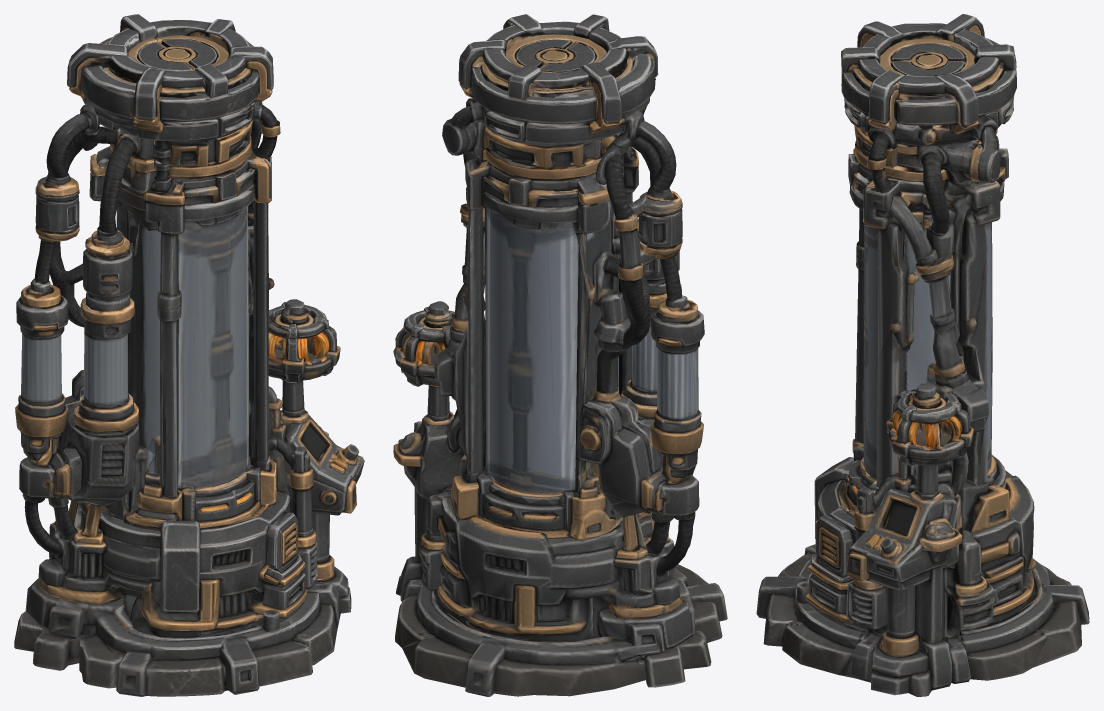
Rendered from obj_temporal_field_generator.glb.
3 renders of one model, left to right at view 1: azimuth 30°, elevation 25°; view 2: azimuth 150°, elevation 25°; view 3: azimuth 270°, elevation 25°, orthographic. The views are drawn at different scales.
Visible parts, largest first — view 1: Mesh_0; view 2: Mesh_0; view 3: Mesh_0.
Part boxes in pixels (left/top/right/bottom): Mesh_0: left=14, top=14, right=364, bottom=696; Mesh_0: left=393, top=14, right=727, bottom=696; Mesh_0: left=756, top=14, right=1089, bottom=696.
Size of the model in its own units: 1.1 by 1.9 by 1.
Materials: 1 (1 with a texture image).
